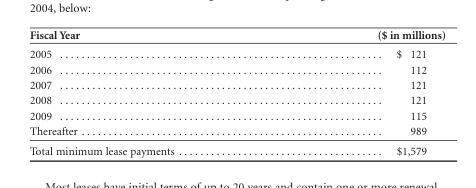table: (28, 28, 444, 157)
table column: (28, 28, 275, 157), (275, 28, 444, 157)
table column header: (28, 28, 444, 44)
table row: (28, 44, 444, 61), (28, 123, 444, 140), (28, 140, 444, 157), (28, 28, 444, 44), (28, 61, 444, 77), (28, 107, 444, 123), (28, 77, 444, 92), (28, 92, 444, 107)
